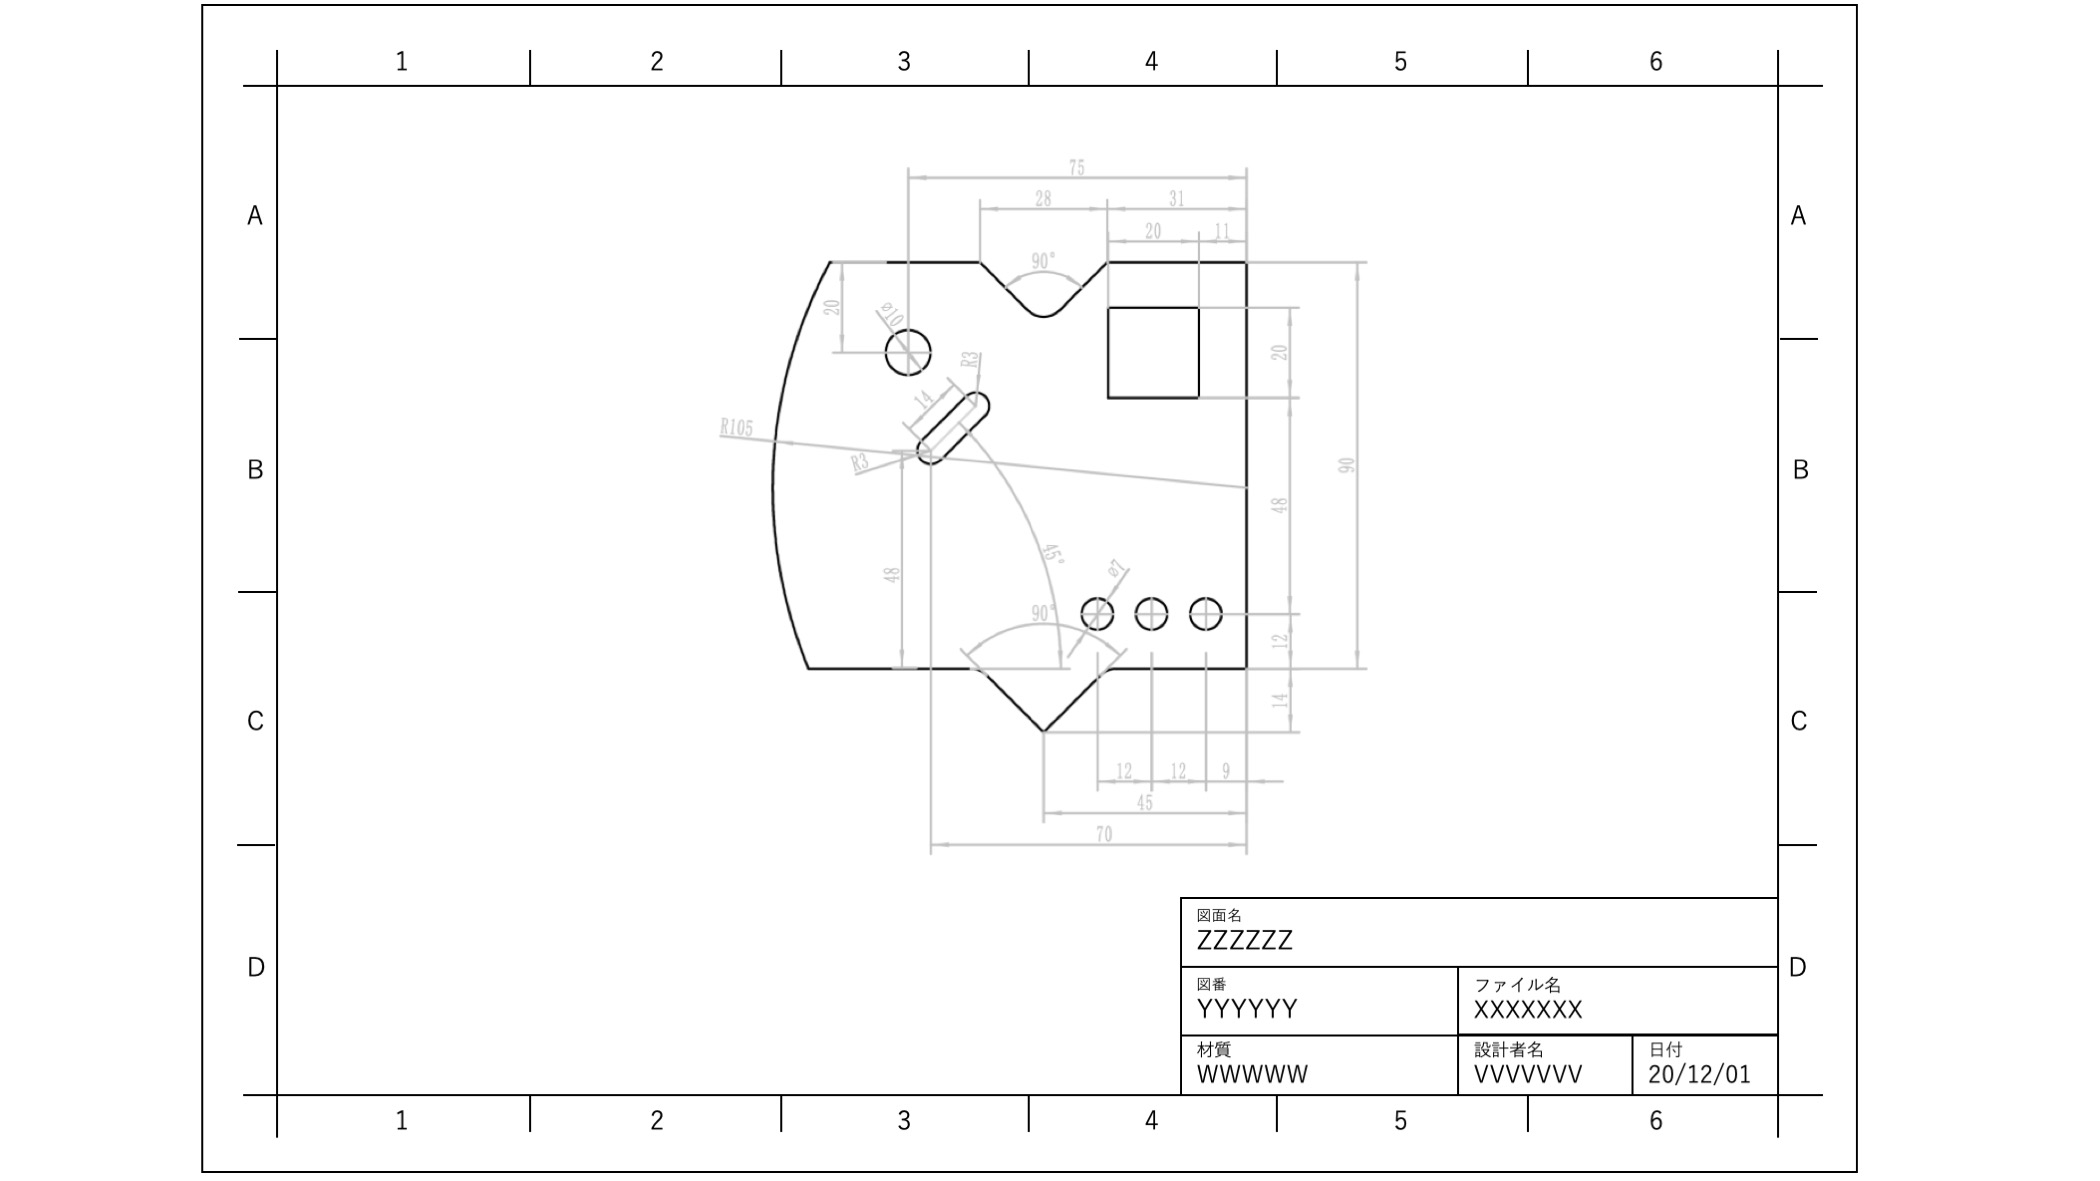circle: (874, 314, 940, 385), (1075, 588, 1122, 637), (1183, 587, 1223, 632), (1131, 591, 1173, 632)
rectangle: (1093, 298, 1213, 411)
round_rectangle: (906, 379, 995, 470)
